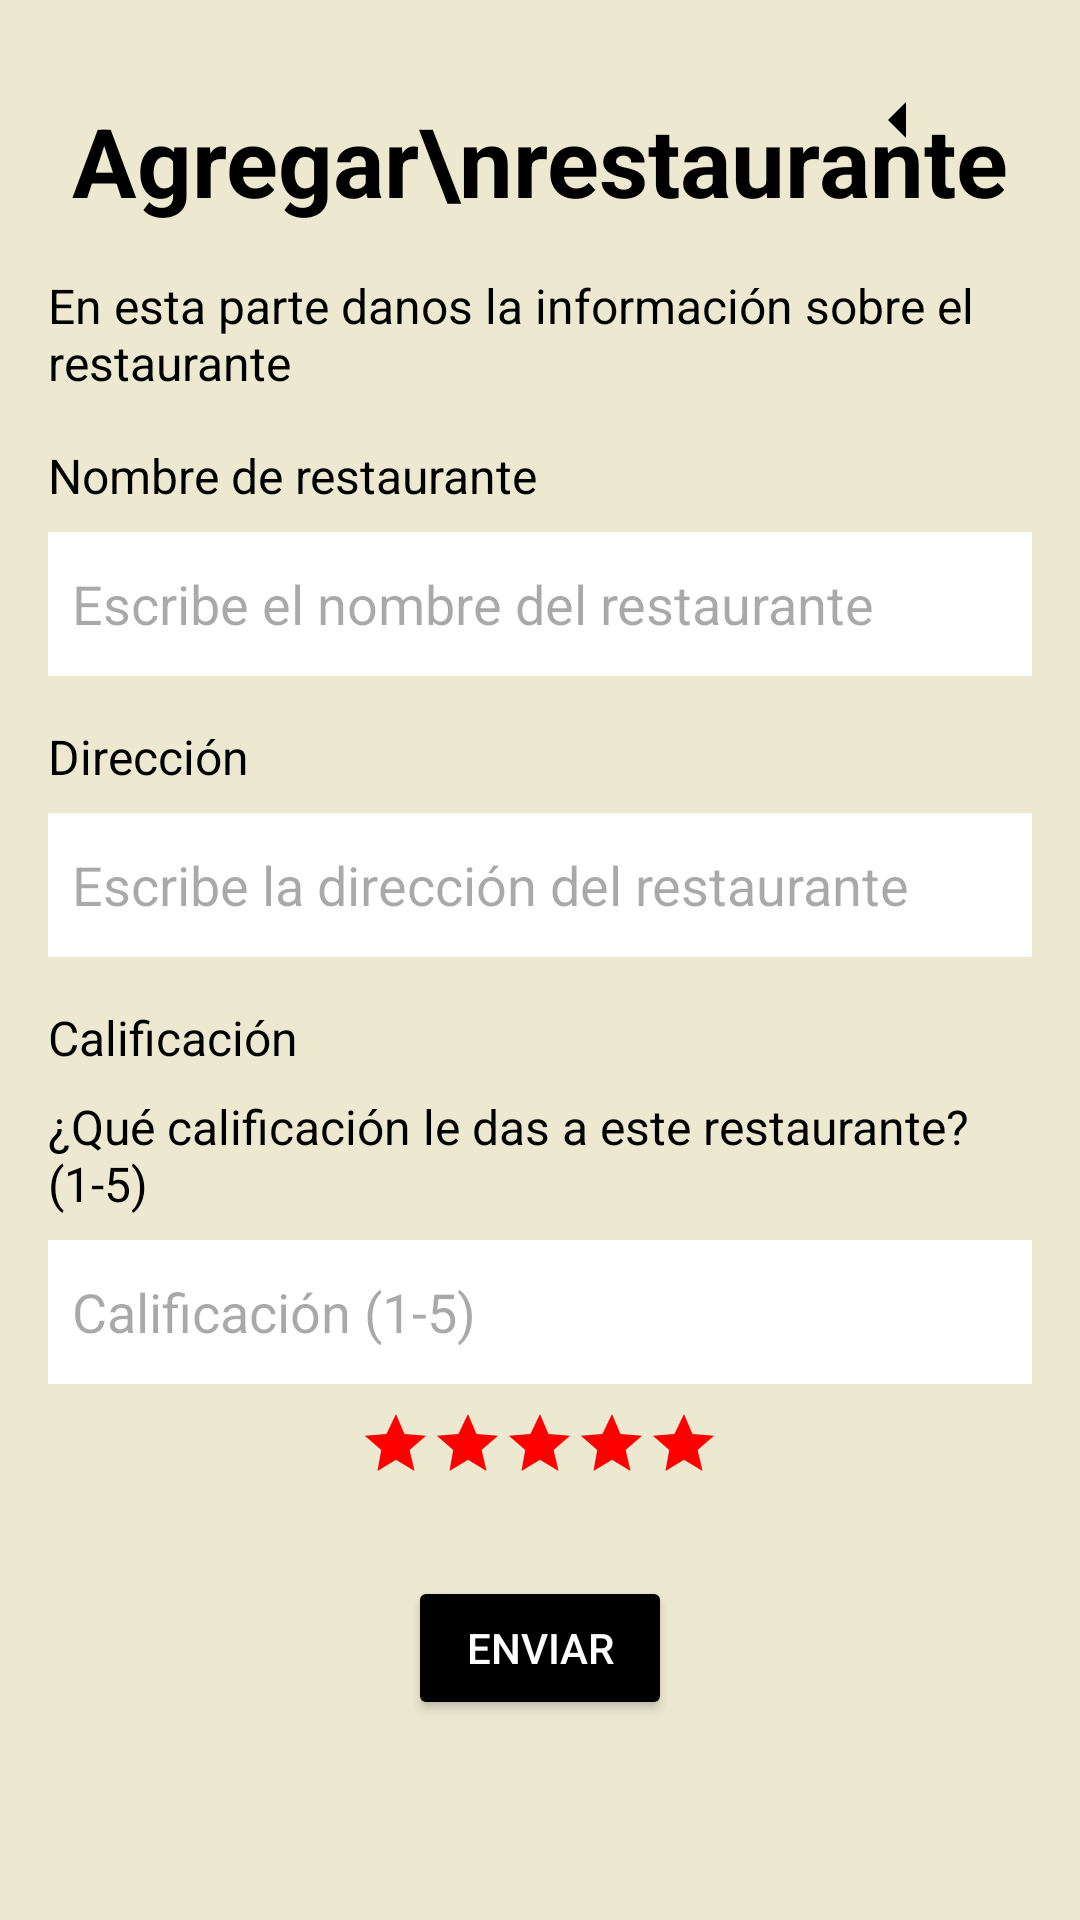

Where to tap for icons on this 1080x1920 app screen, as point (x, y):
Estrella 1: point (395, 1442)
Estrella 2: point (467, 1442)
Estrella 3: point (539, 1442)
Estrella 4: point (611, 1442)
Estrella 5: point (683, 1442)
